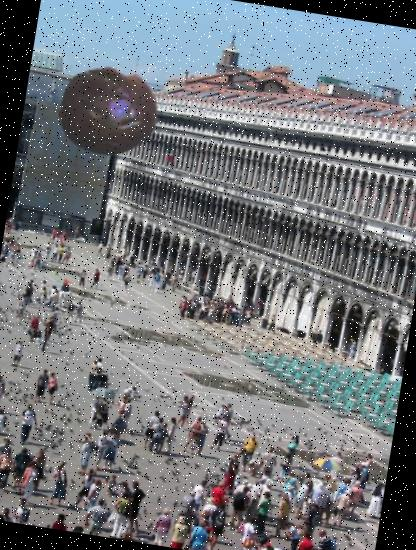Passion: (51, 53, 169, 171)
